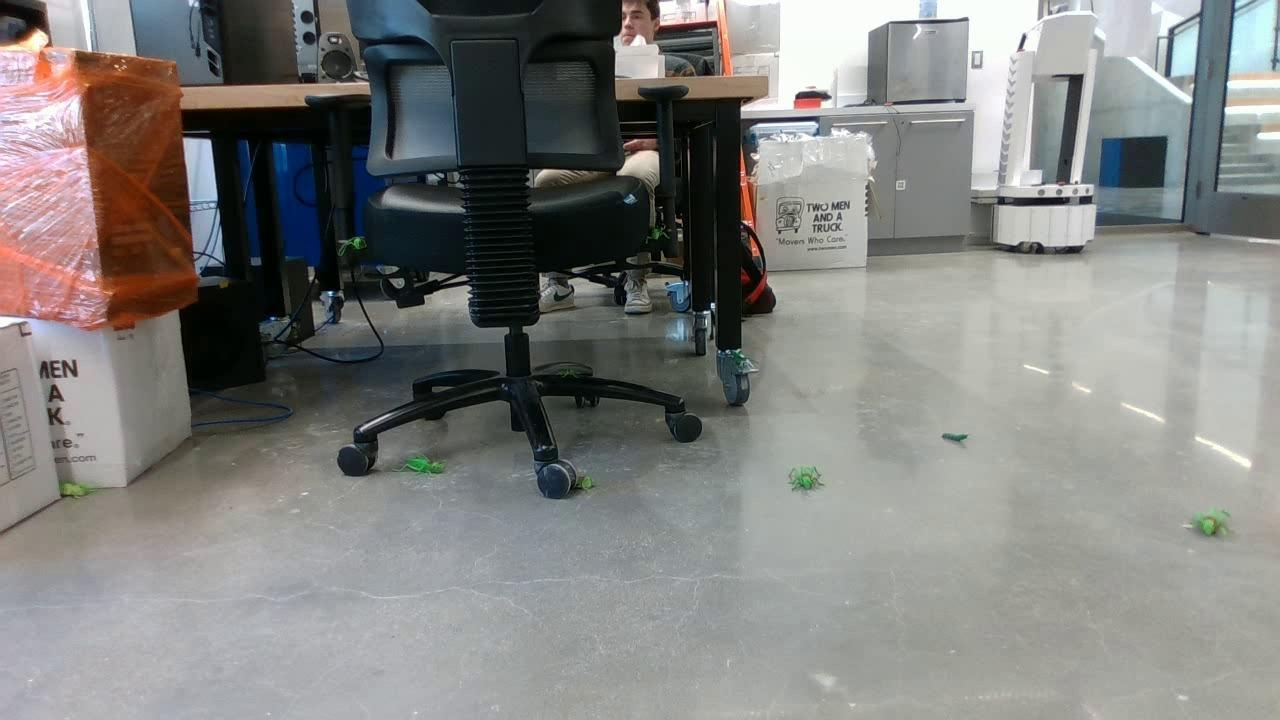grasshopper: (395, 454, 444, 478), (1198, 506, 1231, 541), (788, 466, 824, 495), (53, 477, 88, 499), (569, 472, 598, 493), (342, 236, 371, 252), (650, 225, 669, 240)
